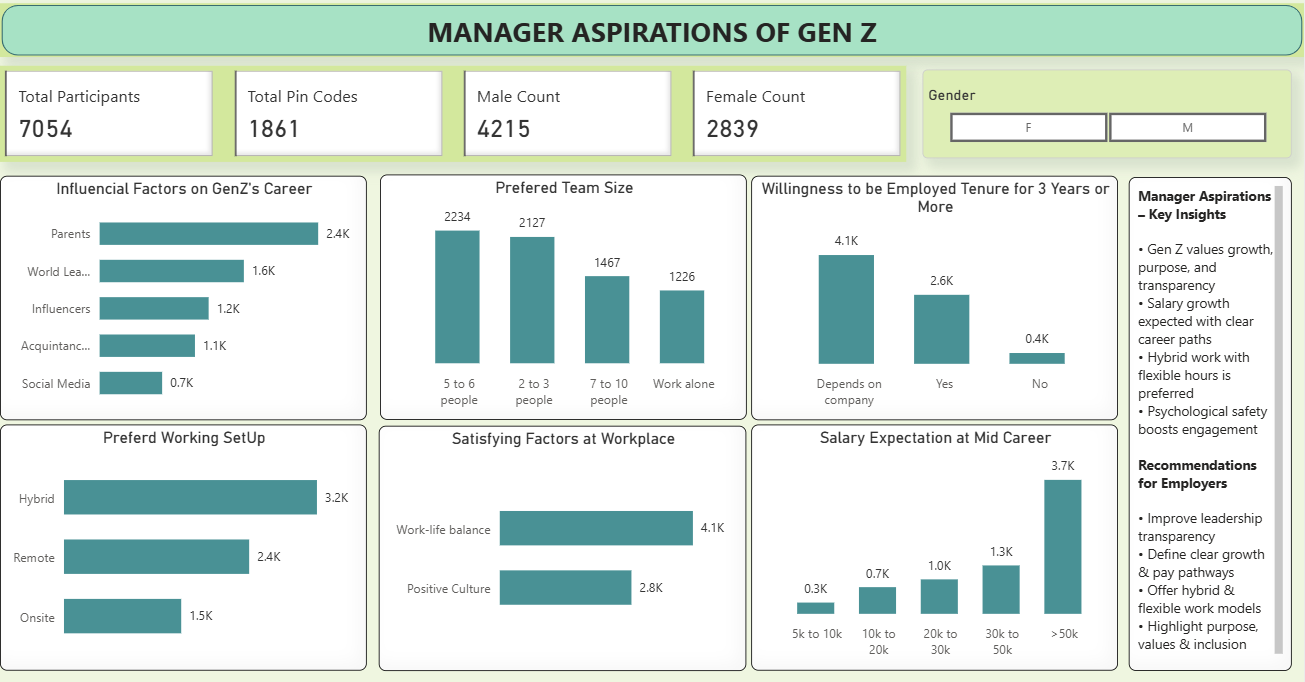

Layout of this report page (visuals, bound fields, positions):
{"tool":"powerbi","page":{"name":"Manager Aspiration","canvas":[1280,720],"ordinal":1},"visuals":[{"type":"shape","box":[0,11.1,1280,53],"z":0},{"type":"cardVisual","fields":{"Data":["Table3.Total Participants","Table3.Total Pin Codes","Table3.Male Count","Table3.Female Count"]},"box":[0,72.6,889.8,94.8],"z":1000},{"type":"slicer","title":"Gender","fields":{"Values":["Table3.Gender"]},"box":[905,76.2,362.5,87.5],"z":2000},{"type":"clusteredBarChart","title":"Influencial Factors on GenZ''s Career","fields":{"Category":["Table3.Career Influence"],"Y":["CountNonNull(Table3.Career Influence)"]},"box":[0,180,360,240],"z":3000},{"type":"columnChart","title":"Prefered Team Size","fields":{"Category":["Table3.Prefered_Team_Size"],"Y":["CountNonNull(Table3.Prefered_Team_Size)"]},"box":[372.9,179.5,360.3,240.7],"z":4000},{"type":"clusteredBarChart","title":"Preferd Working SetUp","fields":{"Category":["Table3.Working_Environment"],"Y":["CountNonNull(Table3.Working_Environment)"]},"box":[0,425,360,241.2],"z":5000},{"type":"clusteredBarChart","title":"Satisfying Factors at Workplace","fields":{"Category":["Table3.Work_Satisfaction_Factors"],"Y":["CountNonNull(Table3.Work_Satisfaction_Factors)"]},"box":[372.2,425.6,361.1,241.1],"z":6000},{"type":"columnChart","title":"Willingness to be Employed Tenure for 3 Years or More","fields":{"Category":["Table3.Employment Tenure for 3 Years"],"Y":["CountNonNull(Table3.Employment Tenure for 3 Years)"]},"box":[737.1,180,360,240],"z":7000},{"type":"columnChart","title":"Salary Expectation at Mid Career","fields":{"Category":["Table3.Salary_for_Mid_Careers"],"Y":["CountNonNull(Table3.Salary_for_Mid_Careers)"]},"box":[737.5,425,360,241.2],"z":8000},{"type":"textbox","box":[1107.5,181.2,160,485],"z":9000}]}

Visuals, with their boxes on the page's 1280x720 design canvas (x1, y1, x2, y2). These are canvas units, not pixel positions in the 1305x682 screenshot, which may show the page scaled, cropped or inside an application window:
shape: (0,11,1280,64)
cardVisual - Table3.Total Participants x Table3.Total Pin Codes: (0,73,890,167)
"Gender" slicer: (905,76,1268,164)
"Influencial Factors on GenZ''s Career" clusteredBarChart: (0,180,360,420)
"Prefered Team Size" columnChart: (373,180,733,420)
"Preferd Working SetUp" clusteredBarChart: (0,425,360,666)
"Satisfying Factors at Workplace" clusteredBarChart: (372,426,733,667)
"Willingness to be Employed Tenure for 3 Years or More" columnChart: (737,180,1097,420)
"Salary Expectation at Mid Career" columnChart: (738,425,1098,666)
textbox: (1108,181,1268,666)
